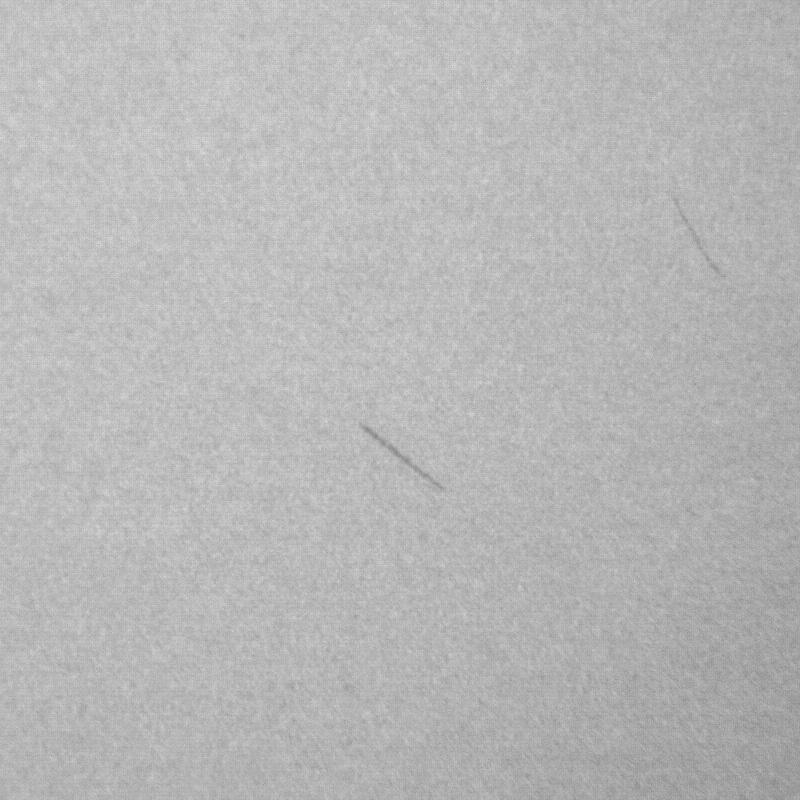defect: (361, 422, 448, 490), (673, 195, 726, 277)
